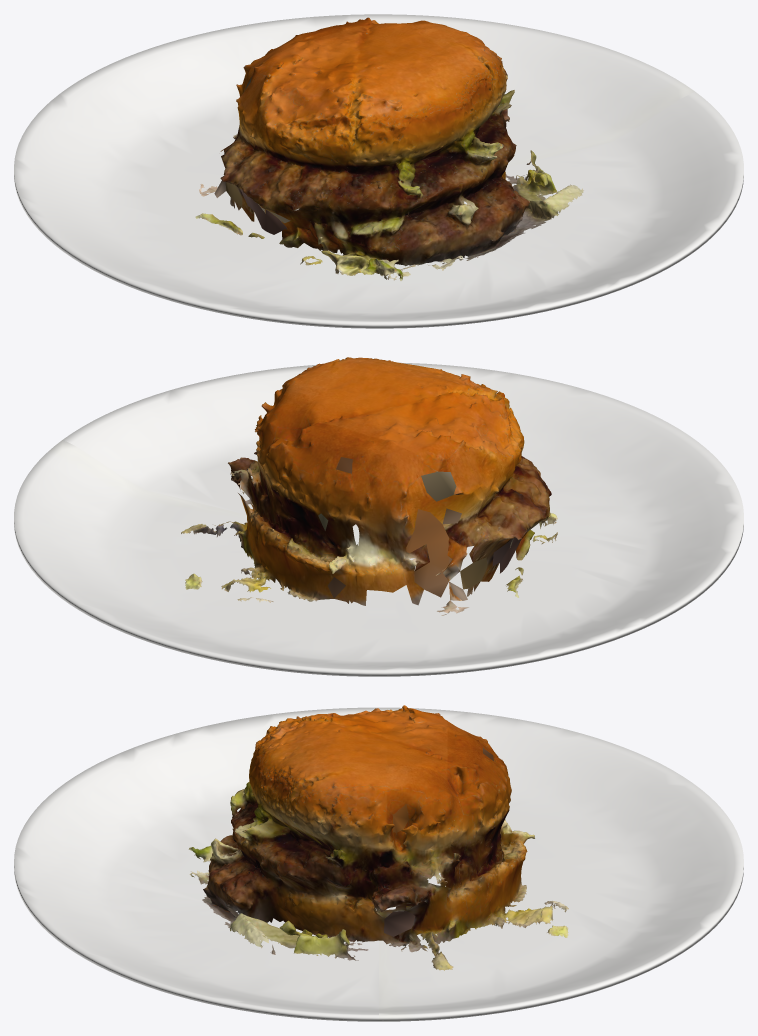
File: burger.glb
3 renders of one model, top to bottom at view 1: azimuth 30°, elevation 25°; view 2: azimuth 150°, elevation 25°; view 3: azimuth 270°, elevation 25°, orthographic.
Visible parts, largest first — view 1: ceramic, material; view 2: ceramic, material; view 3: ceramic, material.
Boxes of the visible parts, bbox=[...] form: ceramic: bbox=[14, 14, 743, 328]; material: bbox=[195, 17, 583, 280]; ceramic: bbox=[14, 362, 743, 676]; material: bbox=[181, 357, 557, 615]; ceramic: bbox=[14, 707, 743, 1021]; material: bbox=[188, 705, 568, 970].
Size of the model in its own units: 0.23 by 0.0592 by 0.23.
Materials: 2 (2 with a texture image).
